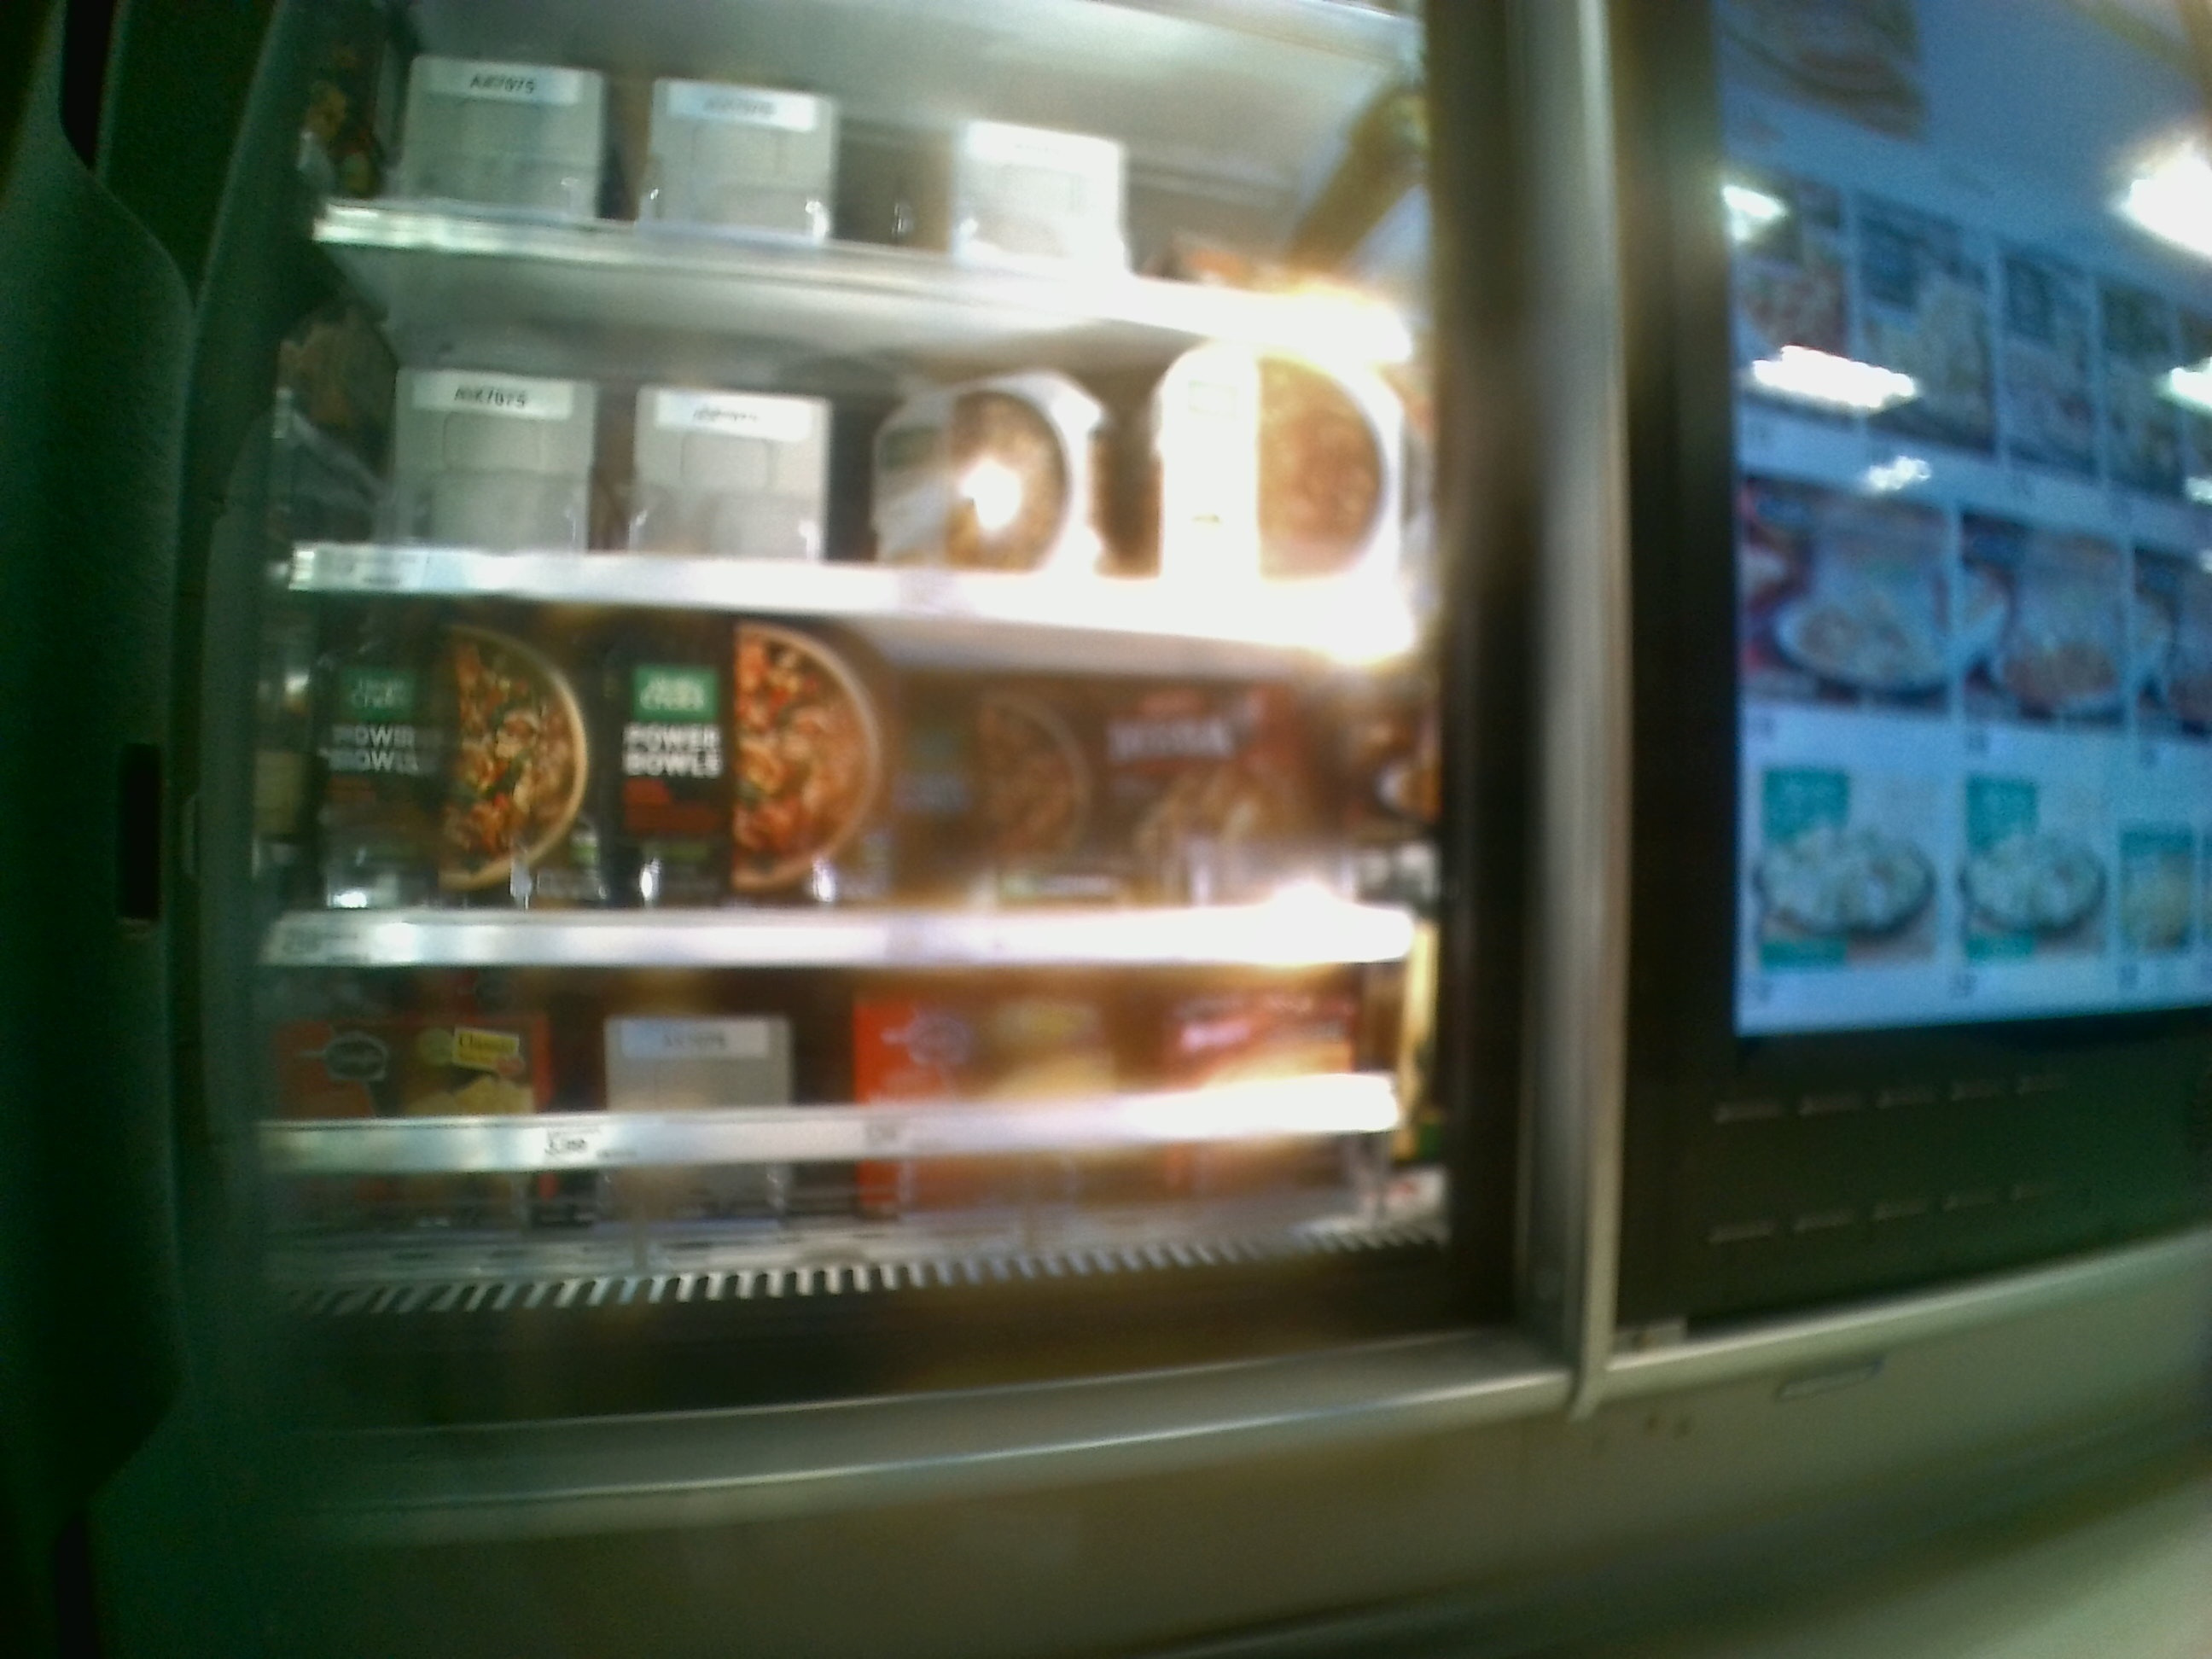shelf: (270, 579, 1430, 962), (270, 962, 1458, 1297)
